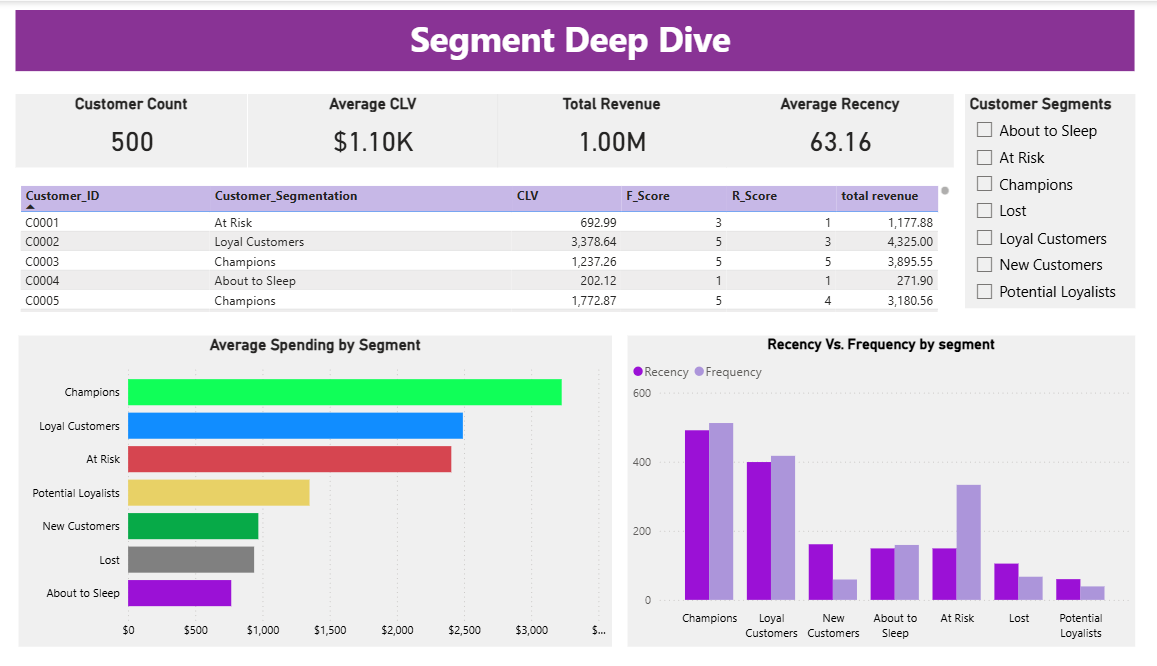

This screenshot's page, from the dashboard's own definition file:
{"tool":"powerbi","page":{"name":"Page 2","canvas":[1280,720],"ordinal":1},"visuals":[{"type":"card","title":"Customer Count","fields":{"Values":["CountNonNull(customer_LTV.Customer_ID)"]},"box":[40.7,100,250,79.1],"z":0},{"type":"card","title":"Average CLV","fields":{"Values":["Avg(customer_LTV.CLV_Gross_Revenue)"]},"box":[290.7,100,269.8,79.1],"z":1000},{"type":"card","title":"Total Revenue","fields":{"Values":["rfm_segmented.total revenue"]},"box":[560.5,100,247.7,79.1],"z":2000},{"type":"card","title":"Average Recency","fields":{"Values":["Avg(rfm_segmented.Recency_days)"]},"box":[808.1,100,245.3,79.1],"z":3000},{"type":"clusteredColumnChart","title":"Recency Vs. Frequency by segment","fields":{"Y":["Sum(rfm_segmented.R_Score)","Sum(rfm_segmented.F_Score)"],"Category":["rfm_segmented.Customer_Segmentation"]},"box":[701.2,360.5,547.7,336],"z":4000},{"type":"barChart","title":"Average Spending by Segment ","fields":{"Category":["rfm_segmented.Customer_Segmentation"],"Y":["Avg(rfm_segmented.Total_spending)"]},"box":[44.2,360.5,640.7,336],"z":5000},{"type":"slicer","title":"Customer Segments","fields":{"Values":["rfm_segmented.Customer_Segmentation"]},"box":[1065.1,100,183.7,231.4],"z":6000},{"type":"tableEx","fields":{"Values":["customer_LTV.Customer_ID","rfm_segmented.Customer_Segmentation","customer_LTV.CLV","Sum(rfm_segmented.F_Score)","Sum(rfm_segmented.R_Score)","rfm_segmented.total revenue"]},"box":[40.7,194.2,1012.8,145.3],"z":7000},{"type":"textbox","box":[40.7,9.3,1208.1,66.3],"z":8000}]}

Visuals, with their boxes in screenshot pixels (x1, y1, x2, y2), scaled from the page's 1280x720 canvas onto the 1157x666 screenshot:
"Customer Count" card: (37,92,263,166)
"Average CLV" card: (263,92,507,166)
"Total Revenue" card: (507,92,731,166)
"Average Recency" card: (730,92,952,166)
"Recency Vs. Frequency by segment" clusteredColumnChart: (634,333,1129,644)
"Average Spending by Segment " barChart: (40,333,619,644)
"Customer Segments" slicer: (963,92,1129,307)
tableEx - customer_LTV.Customer_ID x rfm_segmented.Customer_Segmentation: (37,180,952,314)
textbox: (37,9,1129,70)
